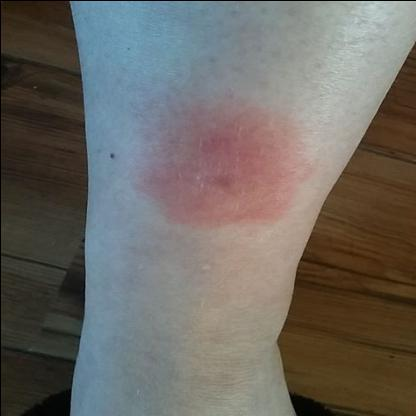Tick: (130, 98, 326, 230)
